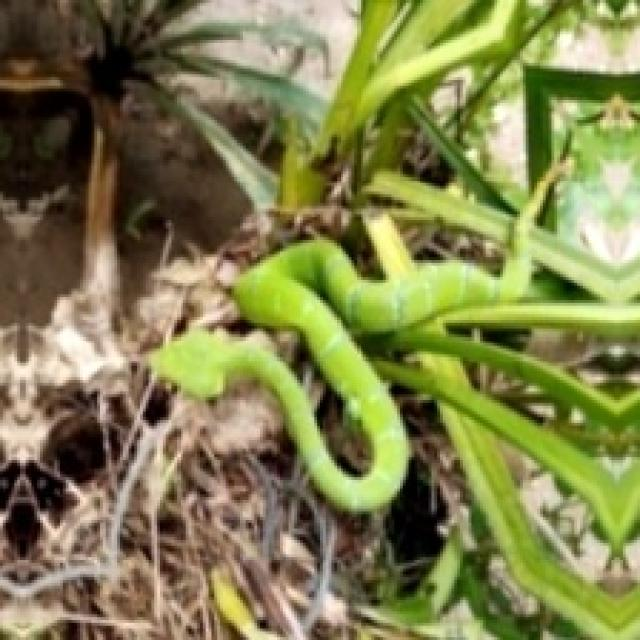north ph temple pitviper: (151, 214, 637, 637)
